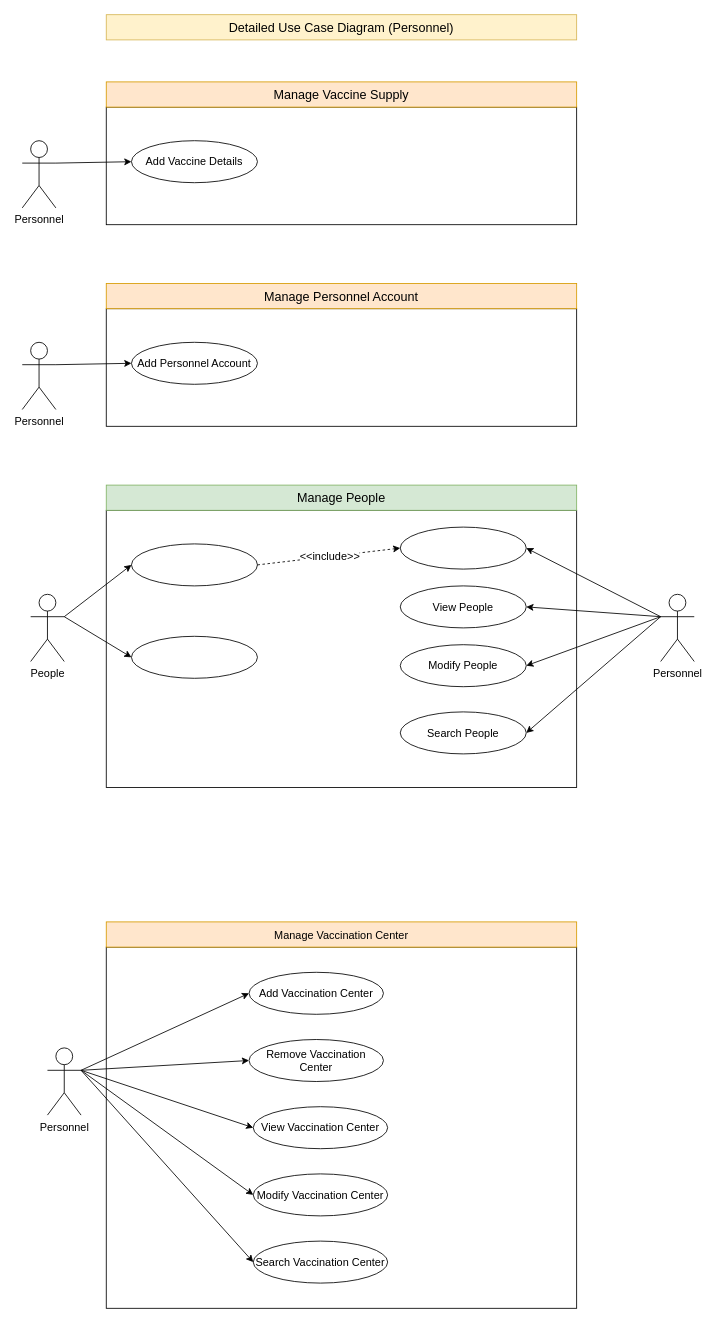
This 717x1323 diagram has some shape labels left out. Here are the shapes that lost their labels. From the top down, the centre of each, then its label:
At point (194, 564): "View Personal Details".
At point (462, 547): "Register People".
At point (194, 656): "Modify Personal Details".
